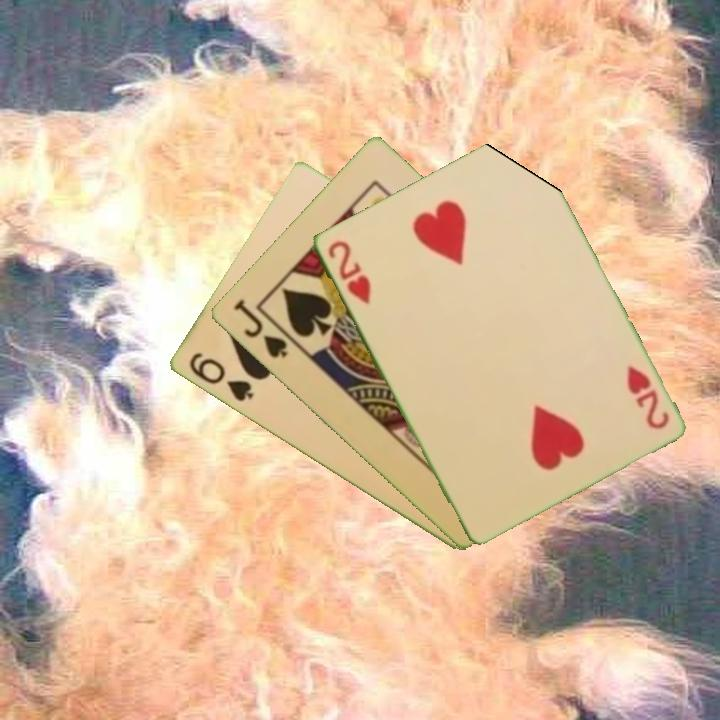2h: (323, 236, 374, 308), (622, 361, 672, 432)
6s: (185, 348, 256, 405)
Js: (229, 295, 290, 362)
